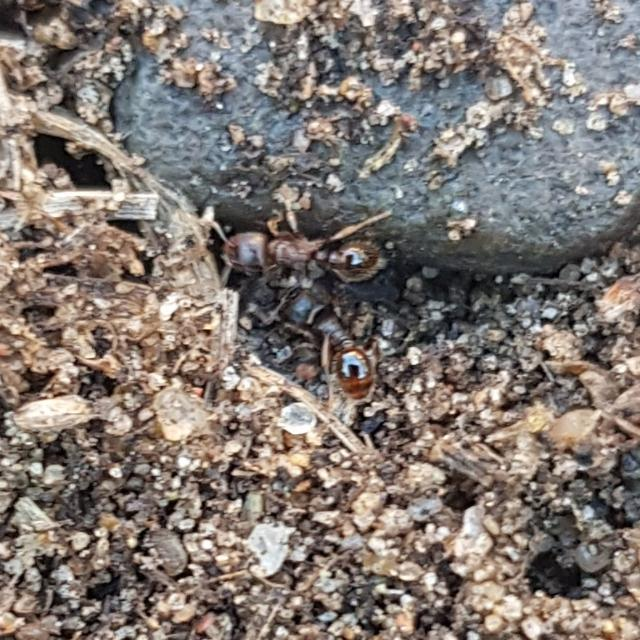Myrmica: (212, 198, 394, 292), (278, 288, 394, 408)
